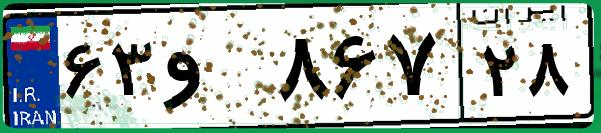2: (475, 38, 525, 113)
3: (110, 28, 158, 98)
6: (330, 28, 385, 110), (57, 26, 110, 100)
7: (385, 28, 445, 110)
8: (270, 28, 330, 110), (525, 38, 570, 115)
و: (158, 20, 270, 120)
